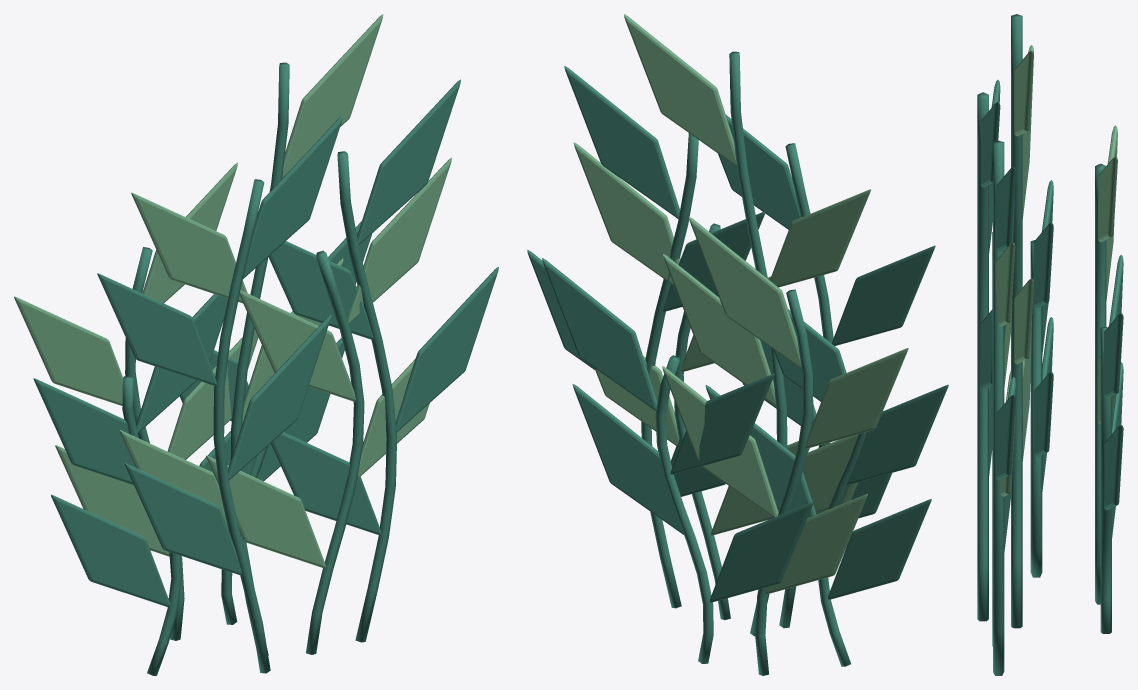
The model's file is seaweed.glb.
The picture shows the model from 3 angles, left to right: view 1: azimuth 30°, elevation 25°; view 2: azimuth 150°, elevation 25°; view 3: azimuth 270°, elevation 25°; orthographic projection. The views are drawn at different scales.
Parts seen in each view (by area): view 1: Kelp cluster; view 2: Kelp cluster; view 3: Kelp cluster.
Boxes of the visible parts, <box> form: Kelp cluster: <box>14,14,498,675</box>; Kelp cluster: <box>527,14,948,675</box>; Kelp cluster: <box>977,14,1123,675</box>.
Bounding box in the file's own units: 1.09 × 1.41 × 0.2902.
